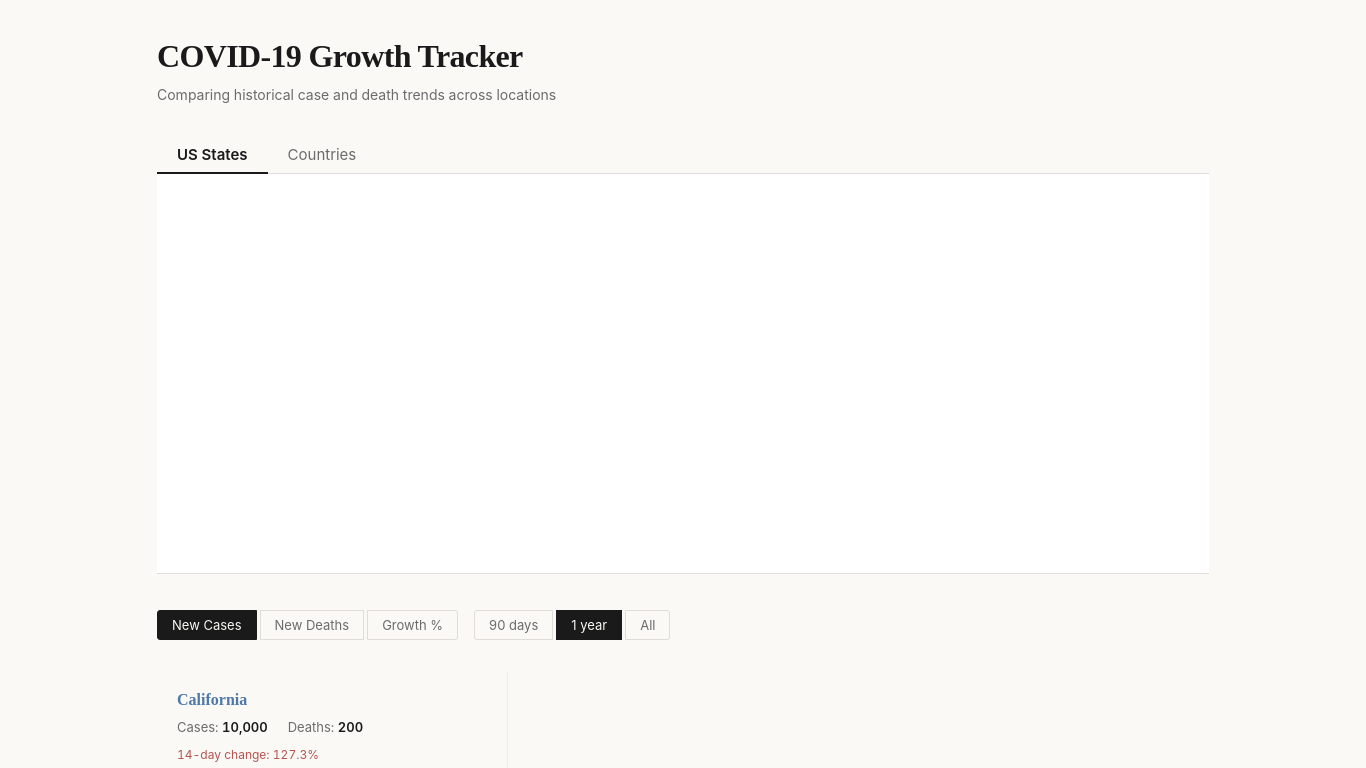
Test: switches between States and Countries tabs
Expected: the text "California" is shown, [177,691,247,708]
Click the tab "Countries" at (322, 156), box [268,137,376,174]
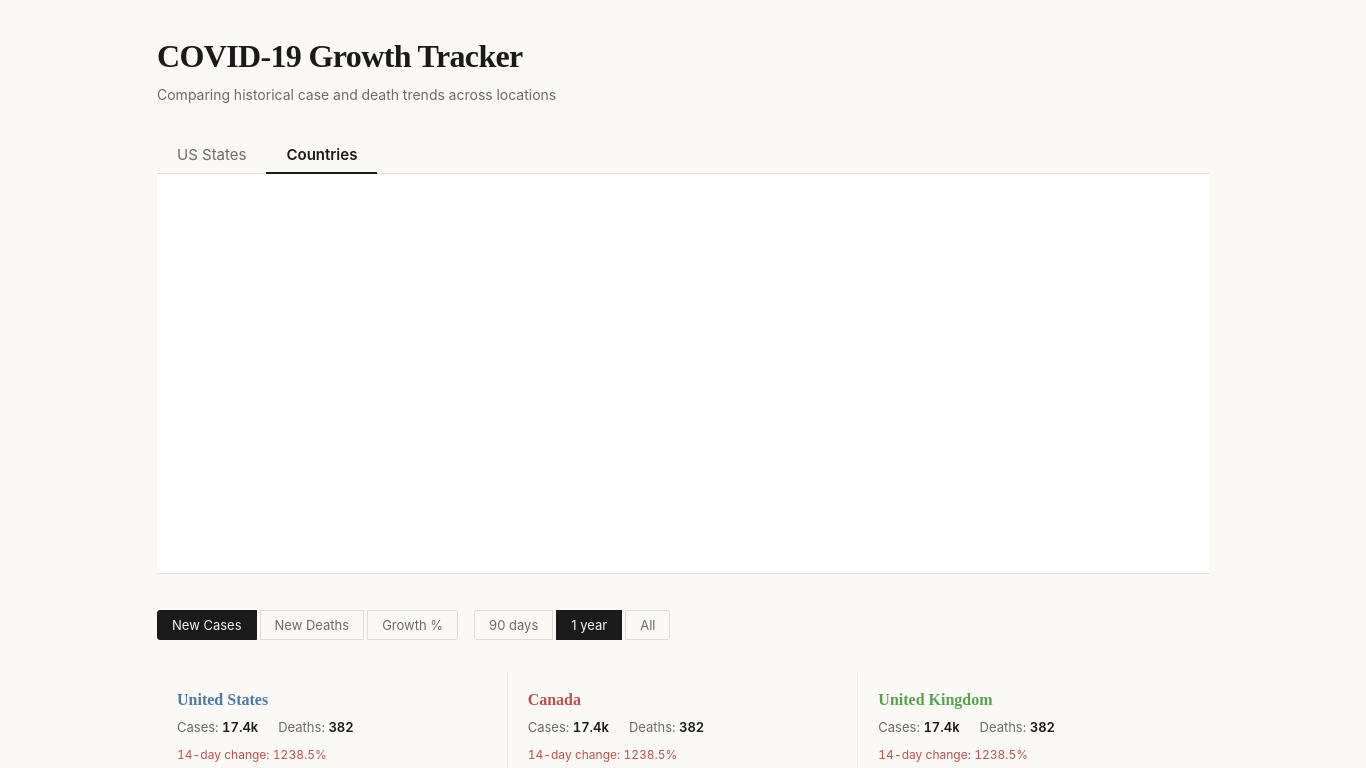
Expected: the text "United States" is shown, [177,691,268,708]
